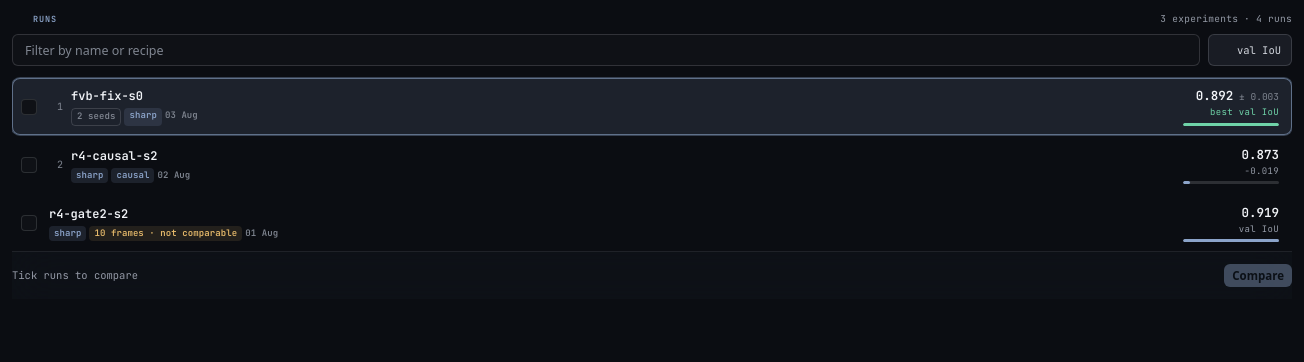
Test: RunRail › opens an experiment to its own runs, each with its recorded seed
Click the option "1 fvb-fix-s0 2 seeds sharp 03 Aug 0.892 ± 0.003 best val IoU" at [107, 96], box [45,79,1291,134]
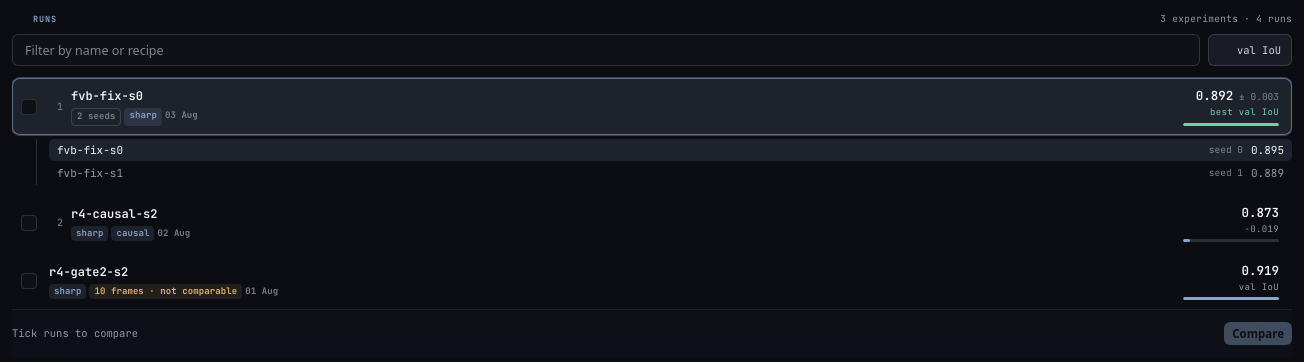
expect the text "fvb-fix-s1" is shown: met, box [57,166,123,180]
expect the text "seed 0" is shown 2 times: met, box [1209,143,1243,157]; [1209,166,1243,181]
